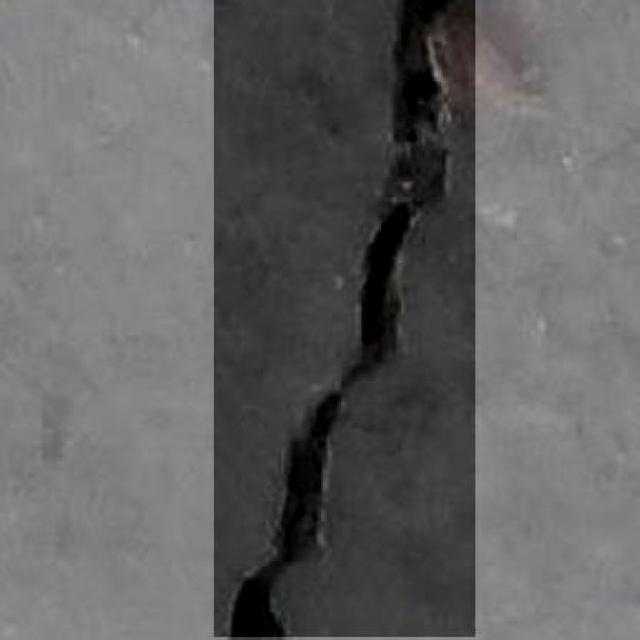crack: (184, 0, 496, 640)
